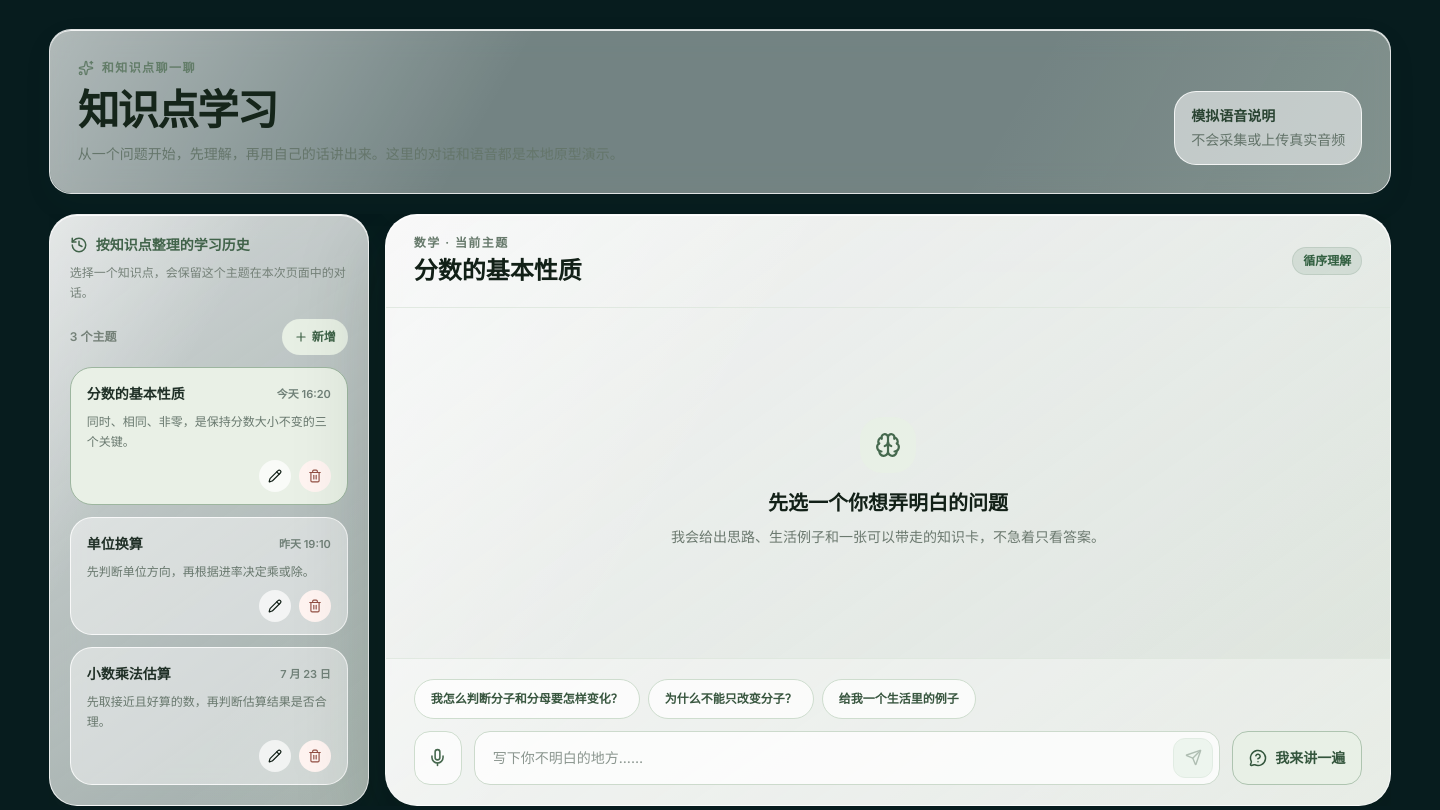
Scenario: LearningPage › supports simulated voice input without collecting real audio
Expected: the text "模拟语音说明 不会采集或上传真实音频" is shown, [1174,91,1362,165]
Click the button named "开始模拟语音输入" at x=438, y=758, box [414,731,462,785]
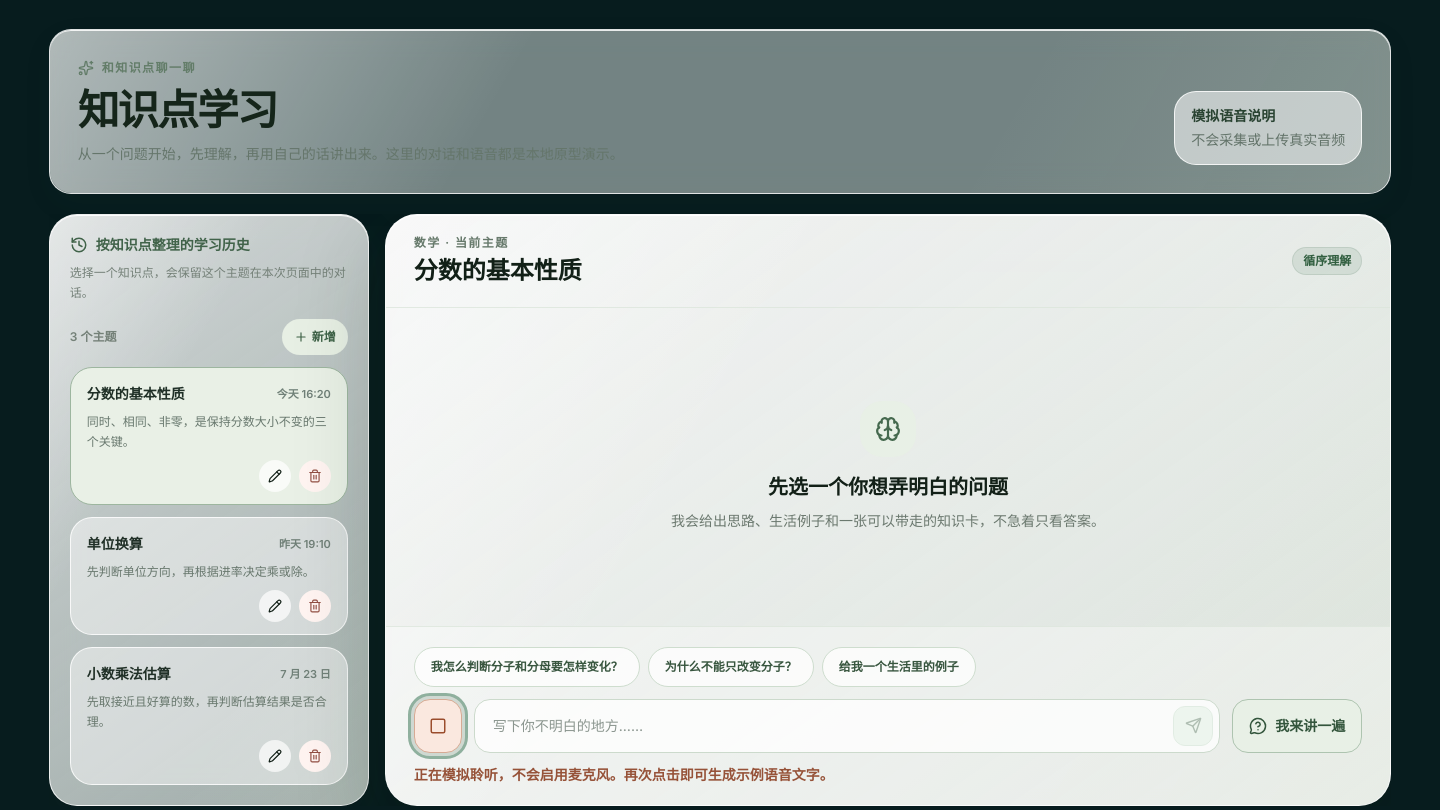
Result: the button named "结束模拟语音输入" is shown at [414,699,462,753]
